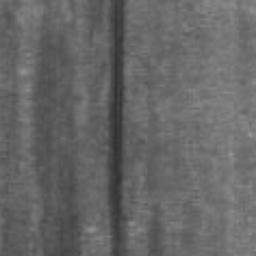Scratches: (108, 0, 126, 256)
